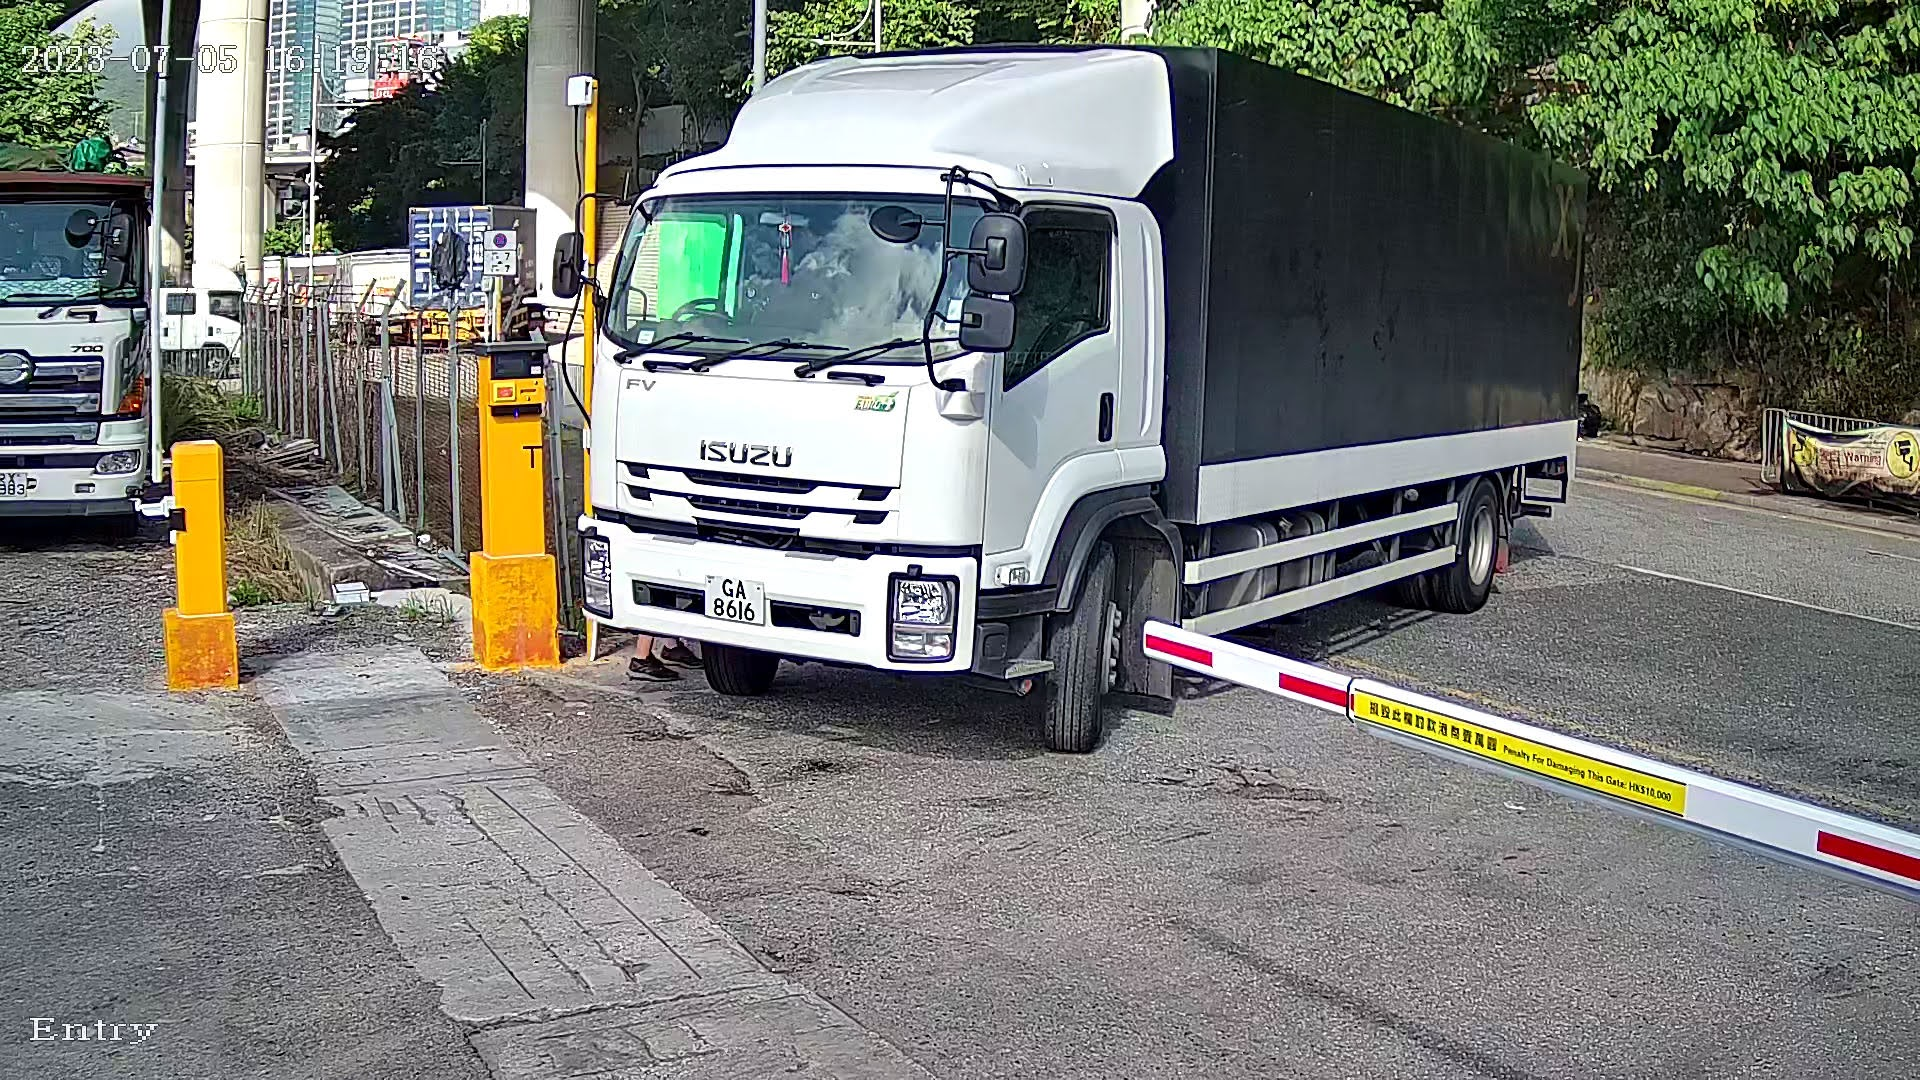truck_large: (542, 26, 1615, 781)
